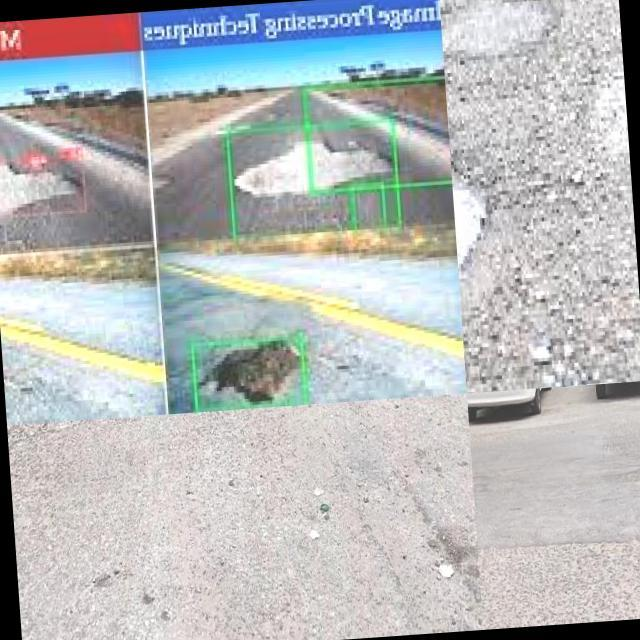Pothole: (201, 335, 309, 405)
